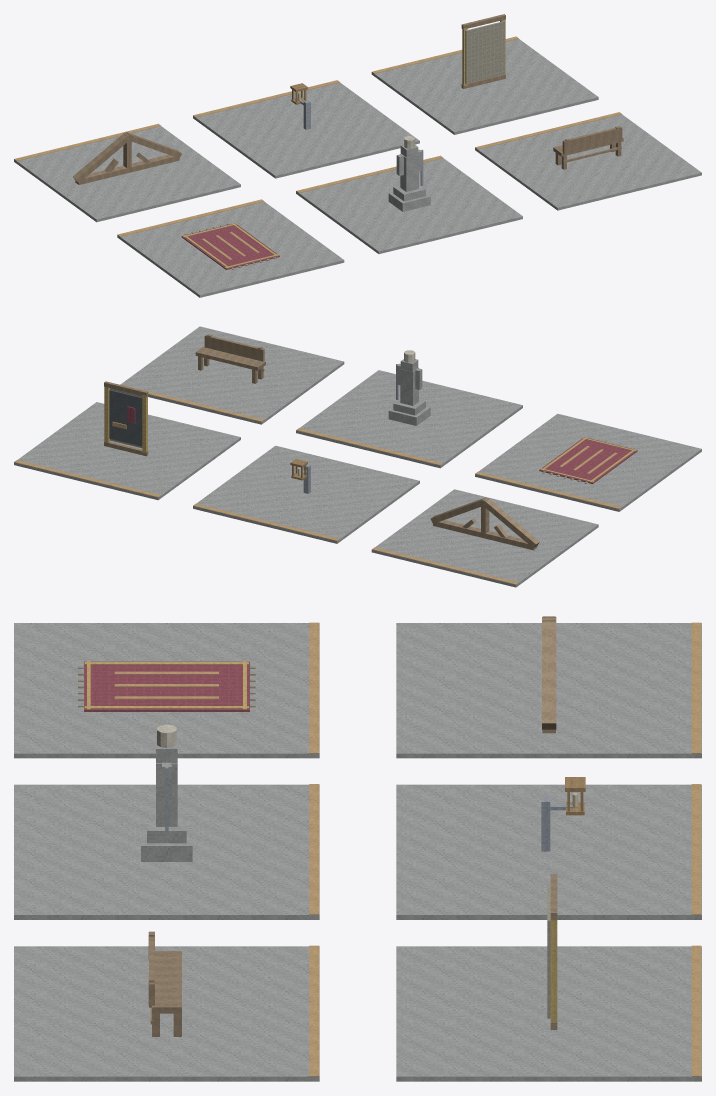
Rendered from level_blockout_kit_wld_10_p05.glb.
3 renders of one model, top to bottom at view 1: azimuth 30°, elevation 25°; view 2: azimuth 150°, elevation 25°; view 3: azimuth 270°, elevation 25°, orthographic. The views are drawn at different scales.
Visible parts, largest first — view 1: level_blockout_kit_wld_10_p05; view 2: level_blockout_kit_wld_10_p05; view 3: level_blockout_kit_wld_10_p05.
Boxes of the visible parts, box(x1,y1,x2,y2) form: level_blockout_kit_wld_10_p05: box(14, 14, 701, 297); level_blockout_kit_wld_10_p05: box(14, 326, 701, 587); level_blockout_kit_wld_10_p05: box(14, 616, 701, 1081).
Bounding box in the file's own units: 19.65 × 2.54 × 12.6.
Materials: 11 (11 with a texture image).
